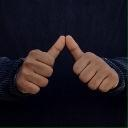hand: (65, 34, 119, 92), (15, 35, 65, 95)
